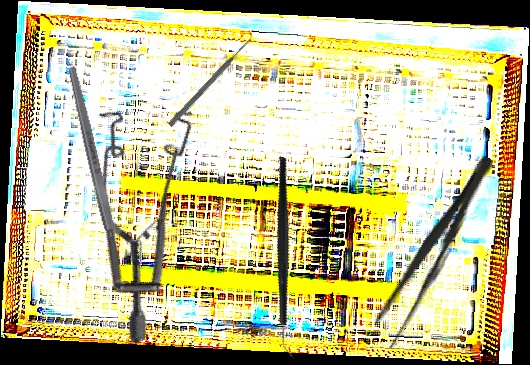Chopper: (215, 155, 359, 360)
Dressing Forceps: (366, 149, 504, 352)
Pusher: (166, 35, 255, 129)
Scalpel Handle: (65, 64, 125, 268)
Speculum: (37, 78, 271, 346)
